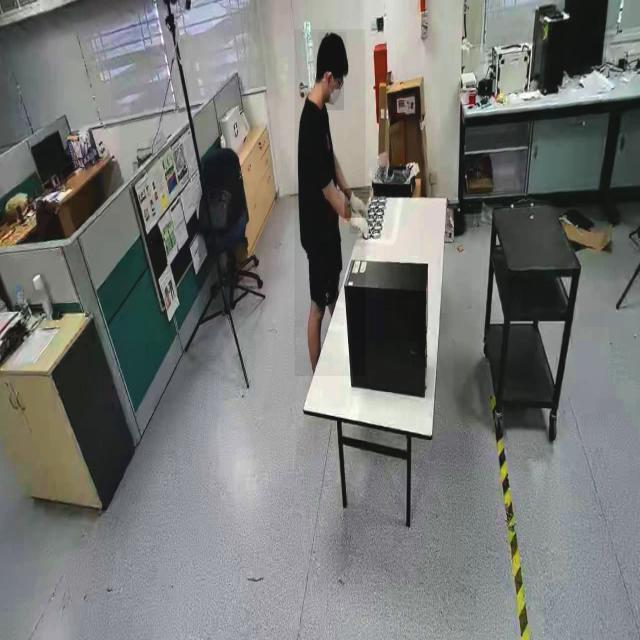face_mask: (322, 81, 344, 110)
hand_glove: (344, 188, 370, 218), (349, 210, 371, 234)
head_nohelmet: (318, 32, 346, 59)
person: (294, 29, 366, 377)
